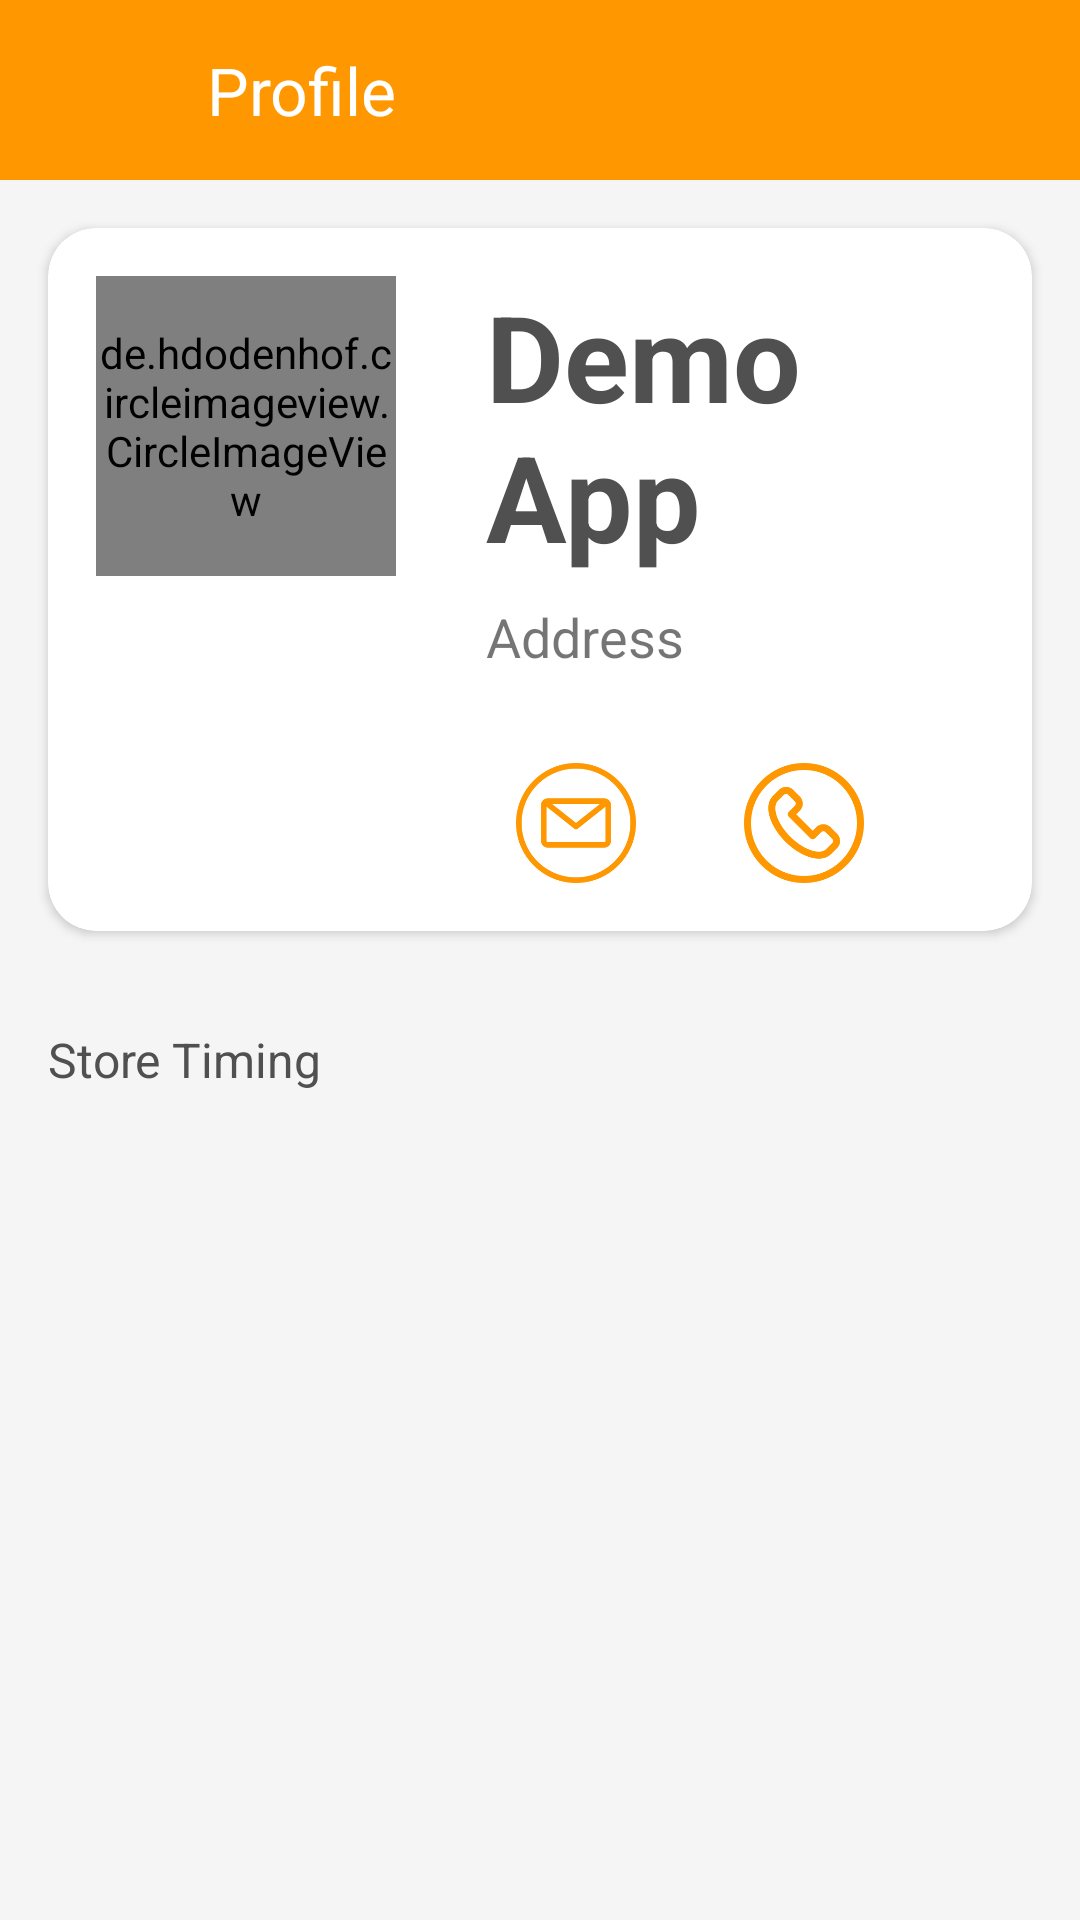

Where icons sit on this 1080 × 1920 app screen, as (x1, y1, x2, y2):
email: (516, 763, 636, 883)
phone: (744, 763, 864, 883)
